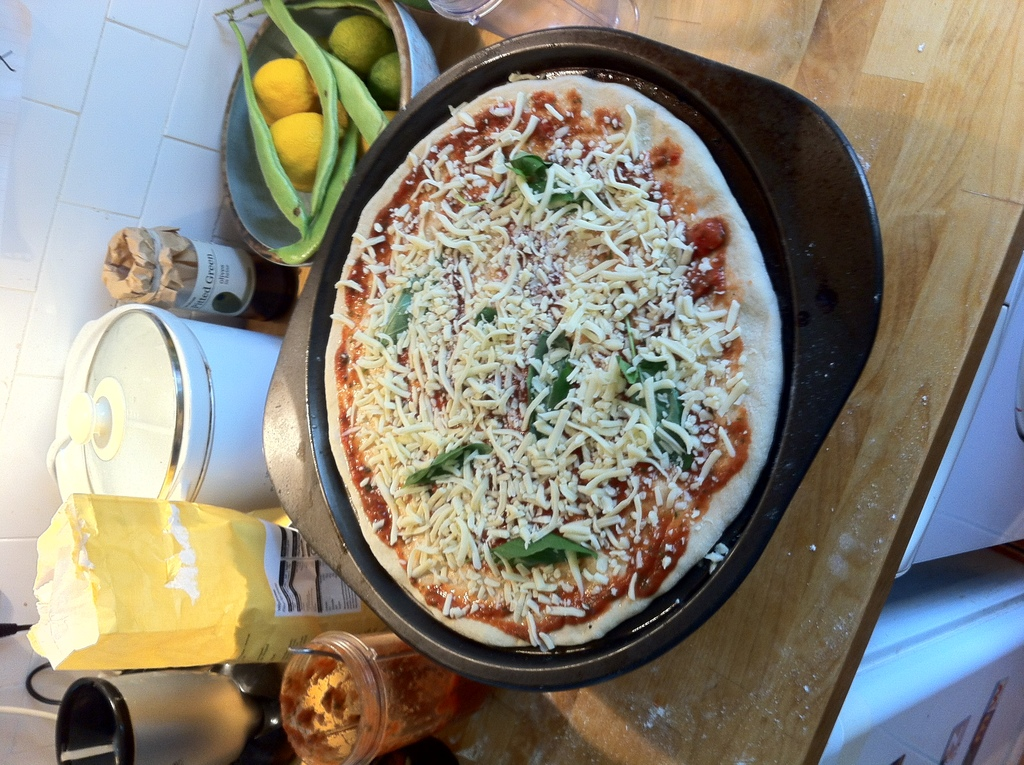Pizza: (298, 86, 767, 708)
